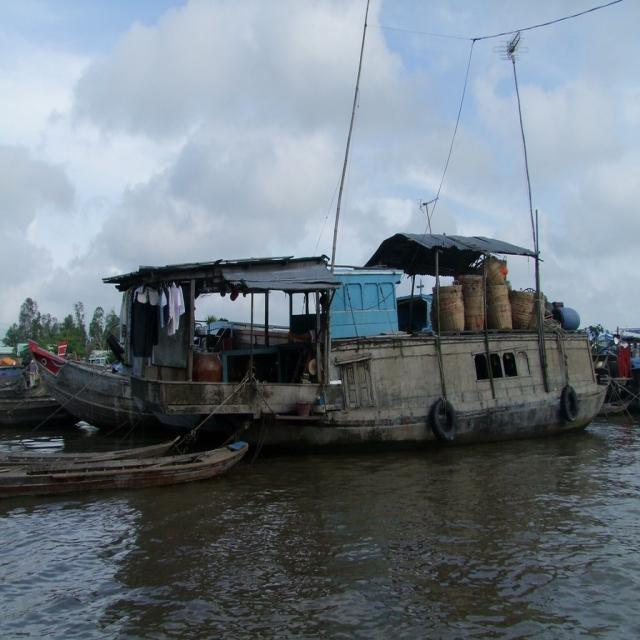boat: (129, 254, 609, 445)
